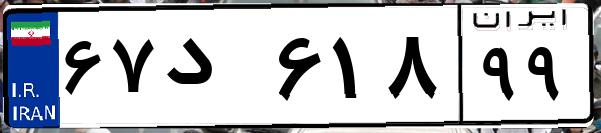1: (330, 28, 385, 110)
6: (270, 28, 330, 110), (57, 26, 110, 100)
7: (110, 28, 158, 98)
8: (385, 28, 445, 110)
9: (475, 38, 525, 113), (525, 38, 570, 115)
د: (158, 20, 270, 120)
